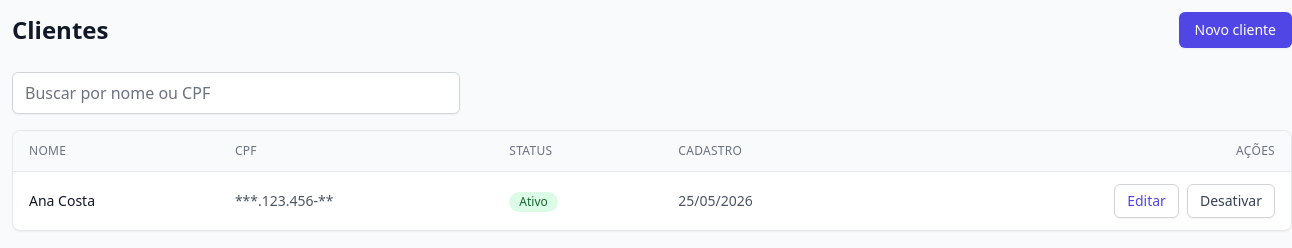
Scenario: ClienteListPage › shows no results message when search returns empty
Expected: the text "Ana Costa" is shown, [13,172,219,230]
Type "xyz" into the search field with placeholder "Buscar por nome ou CPF". click: (236, 93)
box: [12,72,460,114]
Wait 300 ms
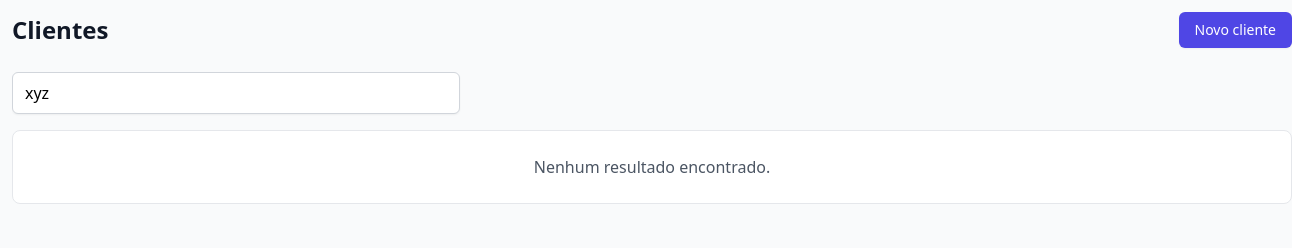
Expected: the text "Nenhum resultado encontrado." is shown, [12,130,1291,204]
